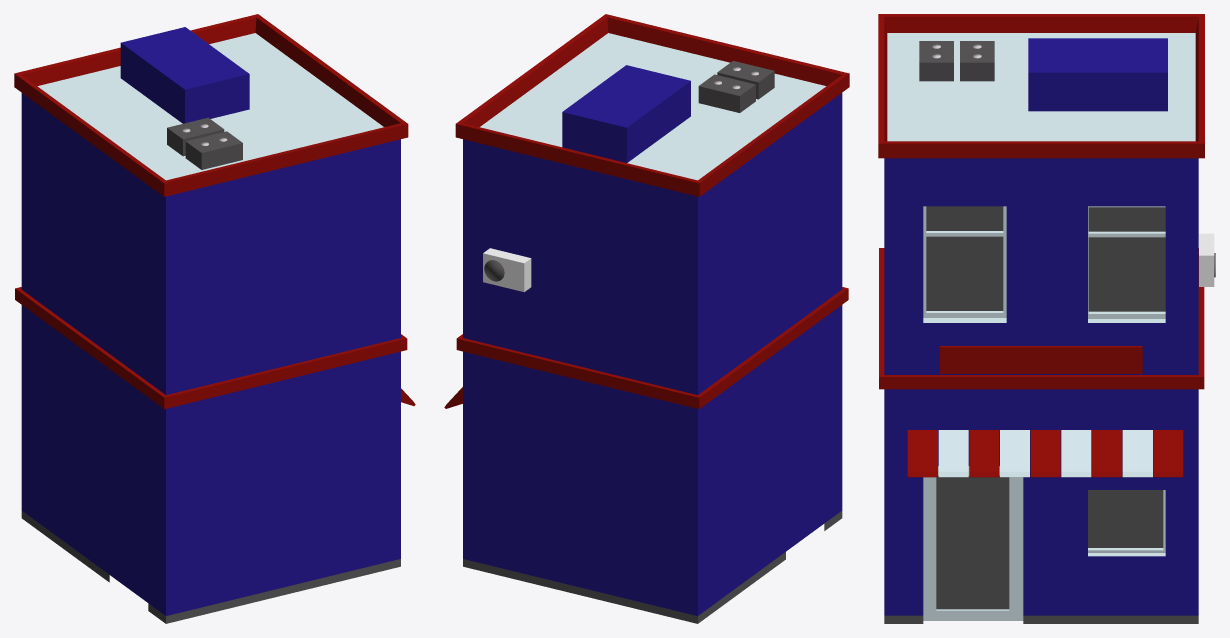
The model's file is Shop1.fbx.
3 views of the same model, side by side, from view 1: azimuth 30°, elevation 25°; view 2: azimuth 150°, elevation 25°; view 3: azimuth 270°, elevation 25° (orthographic). The views are drawn at different scales.
Parts seen in each view (by area): view 1: Shop1; view 2: Shop1; view 3: Shop1.
Boxes of the visible parts, x1,y1,x2,y2 form: Shop1: (14,14,415,623); Shop1: (444,14,849,623); Shop1: (878,14,1215,623).
Size of the model in its own units: 5.7 by 9.55 by 5.77.
